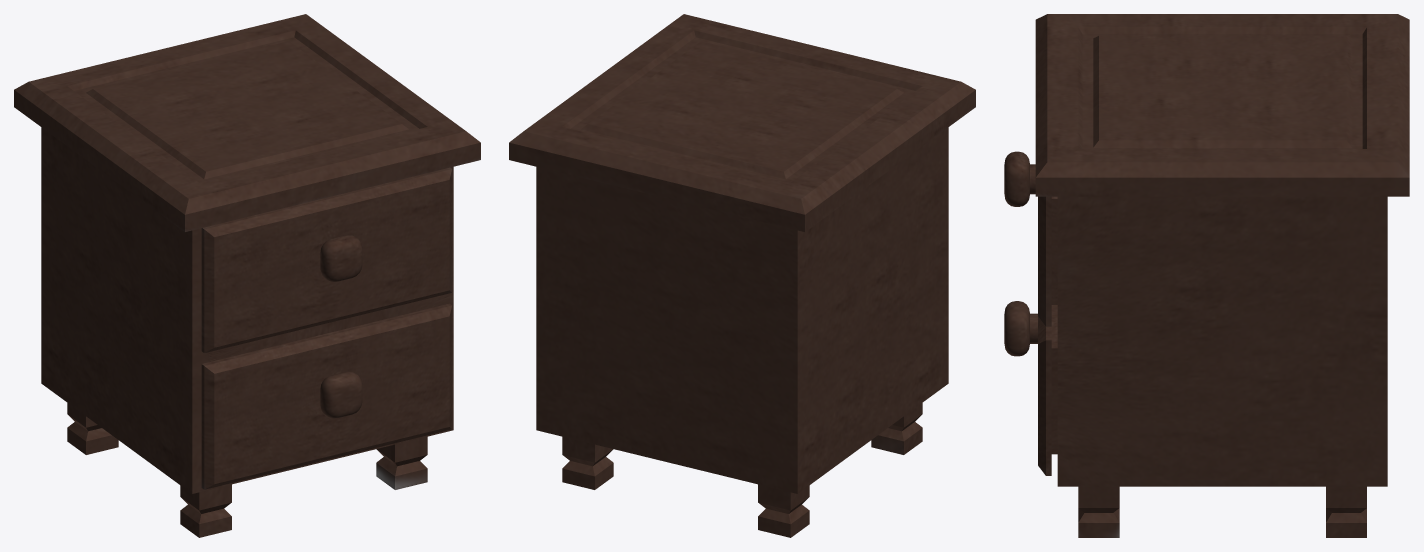
File: NightStandComplete.fbx
The picture shows the model from 3 angles, left to right: view 1: azimuth 30°, elevation 25°; view 2: azimuth 150°, elevation 25°; view 3: azimuth 270°, elevation 25°; orthographic projection. The views are drawn at different scales.
Visible parts, largest first — view 1: NightStand, NightStandDrawers; view 2: NightStand; view 3: NightStand, NightStandDrawers.
Boxes of the visible parts, x1,y1,x2,y2 form: NightStand: (14,14,480,537); NightStandDrawers: (201,167,452,489); NightStand: (509,14,975,537); NightStand: (1035,14,1409,537); NightStandDrawers: (1004,151,1057,475).
Size of the model in its own units: 227 by 260 by 246.
Materials: 2 (2 with a texture image).
